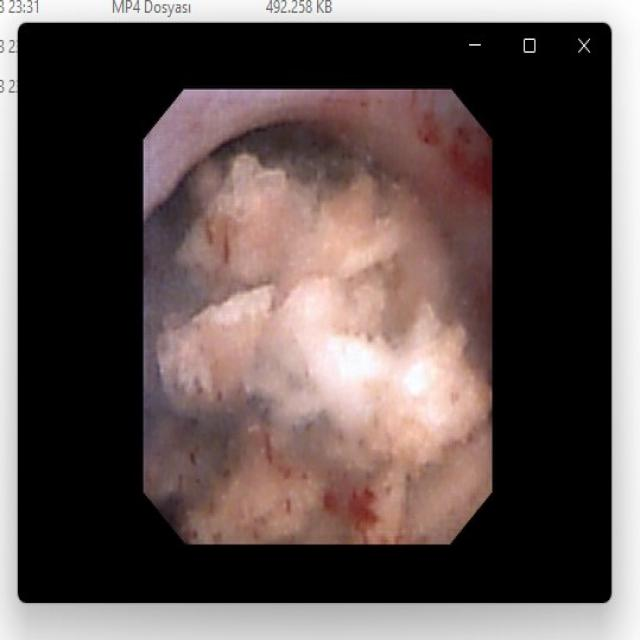stone: (149, 155, 487, 535)
